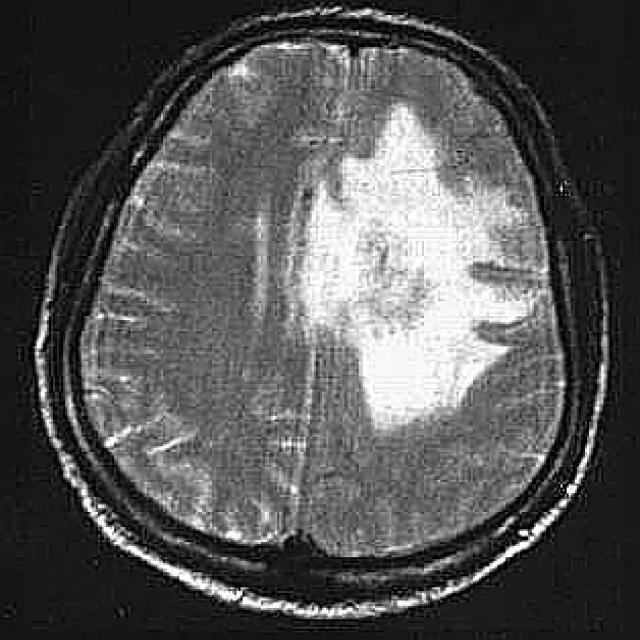Tumor-Cell: (309, 82, 524, 404)
